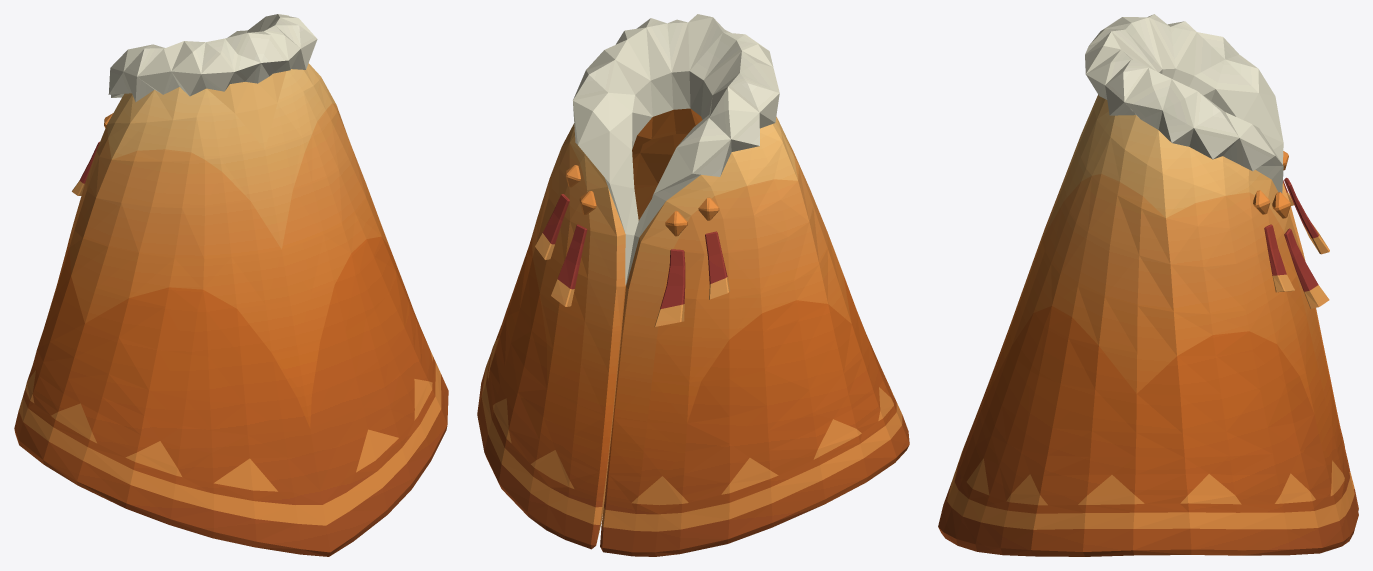
Rendered from CharSkyKid_Wing_AP20Gratitude.glb.
3 views of the same model, side by side, from view 1: azimuth 30°, elevation 25°; view 2: azimuth 150°, elevation 25°; view 3: azimuth 270°, elevation 25° (orthographic). The views are drawn at different scales.
Parts seen in each view (by area): view 1: CharSkyKid_Wing_AP20Gratitude; view 2: CharSkyKid_Wing_AP20Gratitude; view 3: CharSkyKid_Wing_AP20Gratitude.
Part boxes in pixels (bbox=[...]): CharSkyKid_Wing_AP20Gratitude: bbox=[14, 14, 448, 556]; CharSkyKid_Wing_AP20Gratitude: bbox=[477, 14, 909, 556]; CharSkyKid_Wing_AP20Gratitude: bbox=[938, 14, 1358, 556].
Bounding box in the file's own units: 6.42 × 7.29 × 5.56.
Materials: 1 (1 with a texture image).
